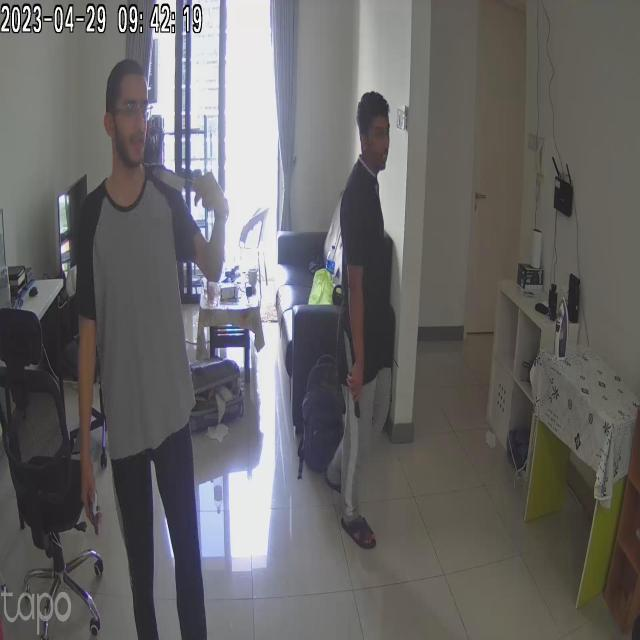Knife: (335, 331, 376, 427), (148, 150, 216, 202)
